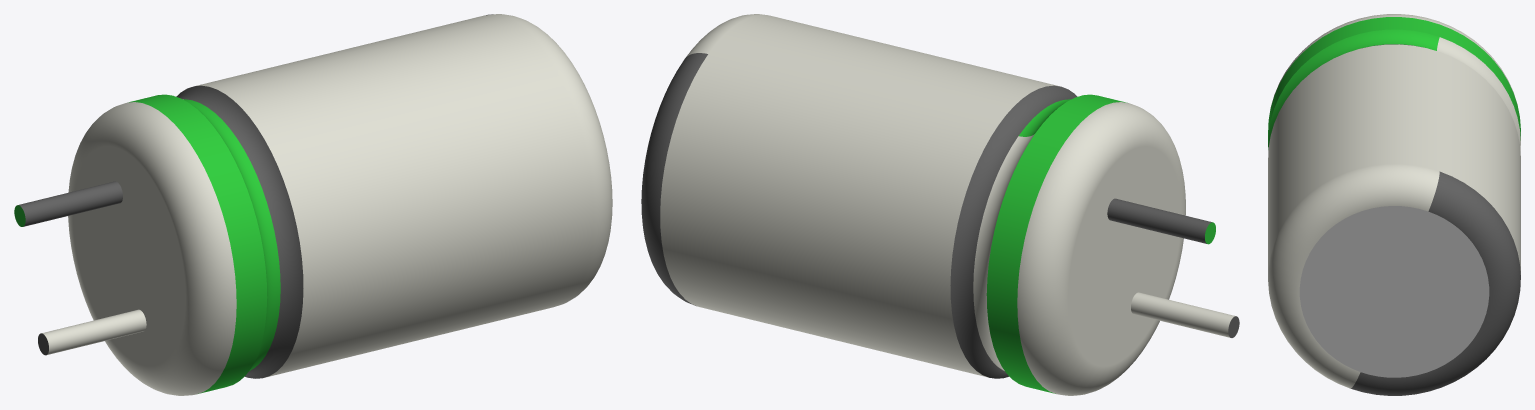
File: EBoxNewAsm_stp_1_IMC413_stp_1_IMC413_22_stp_1_solid1.obj
3 views of the same model, side by side, from view 1: azimuth 30°, elevation 25°; view 2: azimuth 150°, elevation 25°; view 3: azimuth 270°, elevation 25° (orthographic). The views are drawn at different scales.
Visible parts, largest first — view 1: mesh14502, mesh14494, mesh14492, mesh14497, mesh14501, mesh14504, mesh14499, mesh14493, mesh14491, mesh14495; view 2: mesh14502, mesh14492, mesh14493, mesh14497, mesh14500, mesh14494, mesh14503, mesh14498, mesh14495, mesh14491, mesh14501, mesh14504 (+1 smaller); view 3: mesh14502, mesh14505, mesh14504, mesh14503, mesh14497, mesh14499, mesh14498, mesh14494.
Part boxes in pixels (bbox=[...]): mesh14502: bbox=[196, 15, 593, 377]; mesh14494: bbox=[108, 102, 236, 395]; mesh14492: bbox=[73, 146, 185, 366]; mesh14497: bbox=[129, 94, 267, 393]; mesh14501: bbox=[186, 85, 303, 378]; mesh14504: bbox=[492, 14, 612, 304]; mesh14499: bbox=[183, 99, 280, 370]; mesh14493: bbox=[68, 102, 172, 394]; mesh14491: bbox=[18, 181, 122, 226]; mesh14495: bbox=[42, 309, 146, 354]; mesh14502: bbox=[660, 15, 1060, 377]; mesh14492: bbox=[1068, 146, 1180, 366]; mesh14493: bbox=[1017, 141, 1145, 395]; mesh14497: bbox=[986, 94, 1127, 393]; mesh14500: bbox=[950, 125, 1018, 378]; mesh14494: bbox=[1066, 102, 1185, 348]; mesh14503: bbox=[641, 53, 707, 306]; mesh14498: bbox=[973, 134, 1034, 370]; mesh14495: bbox=[1131, 292, 1235, 337]; mesh14491: bbox=[1107, 198, 1211, 243]; mesh14501: bbox=[999, 85, 1077, 135]; mesh14504: bbox=[686, 14, 767, 56]; mesh14502: bbox=[1268, 44, 1520, 276]; mesh14505: bbox=[1299, 206, 1489, 377]; mesh14504: bbox=[1268, 164, 1439, 388]; mesh14503: bbox=[1351, 171, 1520, 395]; mesh14497: bbox=[1268, 17, 1520, 142]; mesh14499: bbox=[1268, 29, 1439, 149]; mesh14498: bbox=[1437, 37, 1520, 150]; mesh14494: bbox=[1270, 14, 1439, 107].
Bounding box in the file's own units: 0.016 × 0.00799 × 0.008.
